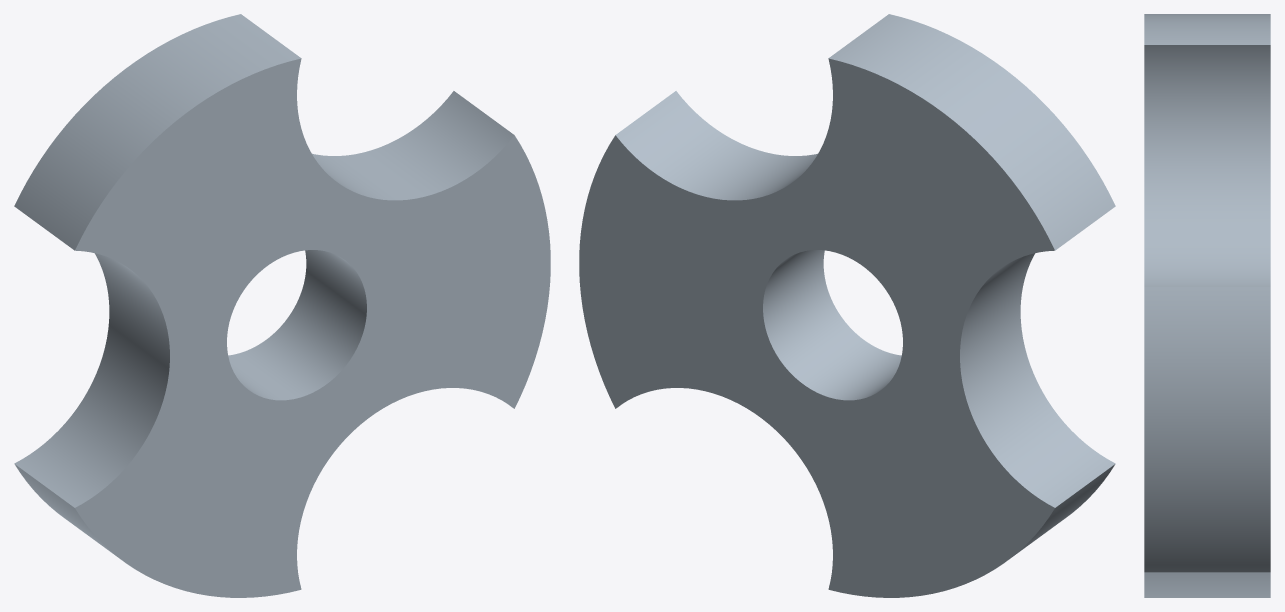
Rendered from inner_prop_3.obj.
The picture shows the model from 3 angles, left to right: view 1: azimuth 30°, elevation 25°; view 2: azimuth 150°, elevation 25°; view 3: azimuth 270°, elevation 25°; orthographic projection. The views are drawn at different scales.
Visible parts, largest first — view 1: 1; view 2: 1; view 3: 1.
Boxes of the visible parts, x1,y1,x2,y2 form: 1: [14, 14, 550, 597]; 1: [579, 14, 1115, 597]; 1: [1144, 14, 1270, 597].
Bounding box in the file's own units: 67.96 × 72.49 × 15.
